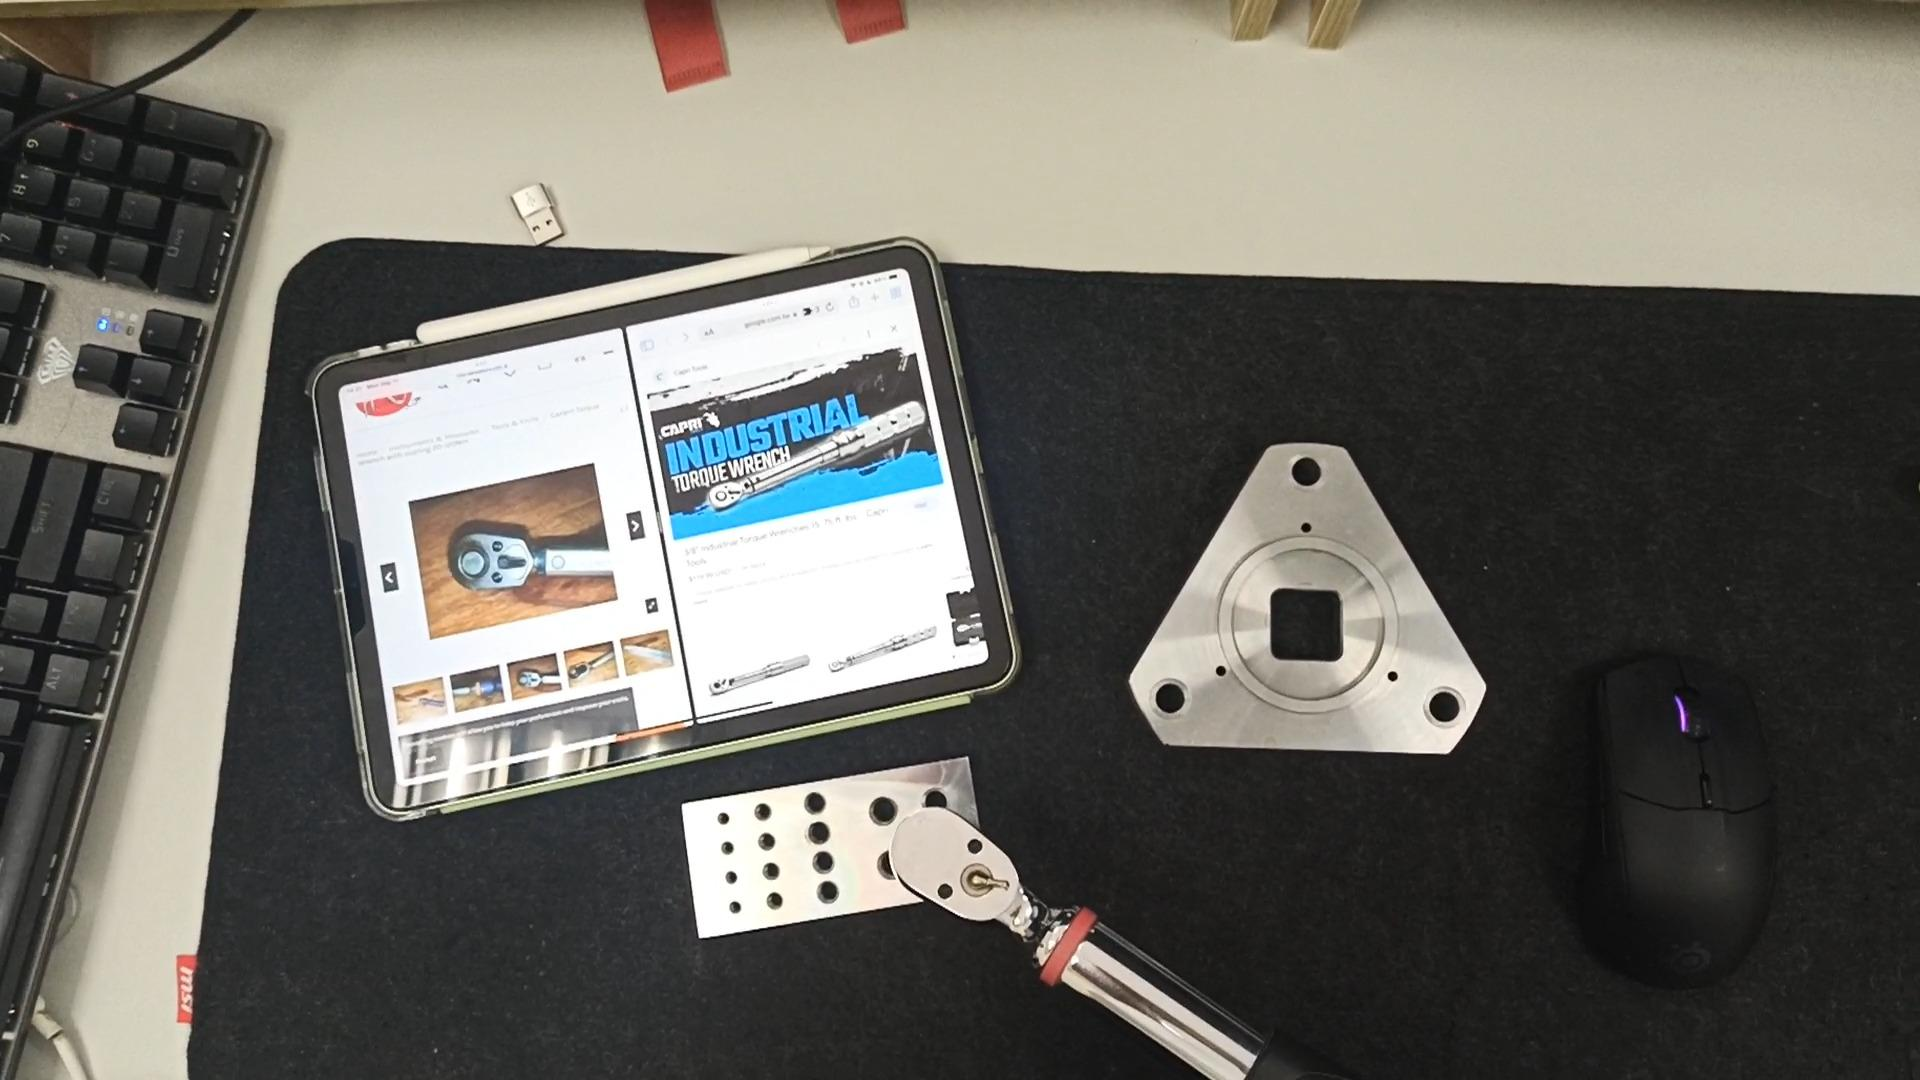Tool: (882, 804, 1075, 975), (447, 526, 537, 595), (707, 477, 752, 512)
hole: (1412, 690, 1477, 738), (1275, 456, 1338, 498), (1141, 684, 1201, 727), (853, 845, 911, 882), (855, 796, 914, 832), (787, 793, 837, 820), (796, 853, 843, 881), (790, 827, 836, 853), (802, 882, 847, 907), (737, 837, 777, 858), (736, 803, 773, 824), (704, 841, 738, 861), (744, 866, 779, 885), (758, 891, 793, 910), (707, 870, 740, 889), (702, 811, 735, 829), (712, 903, 742, 919)
